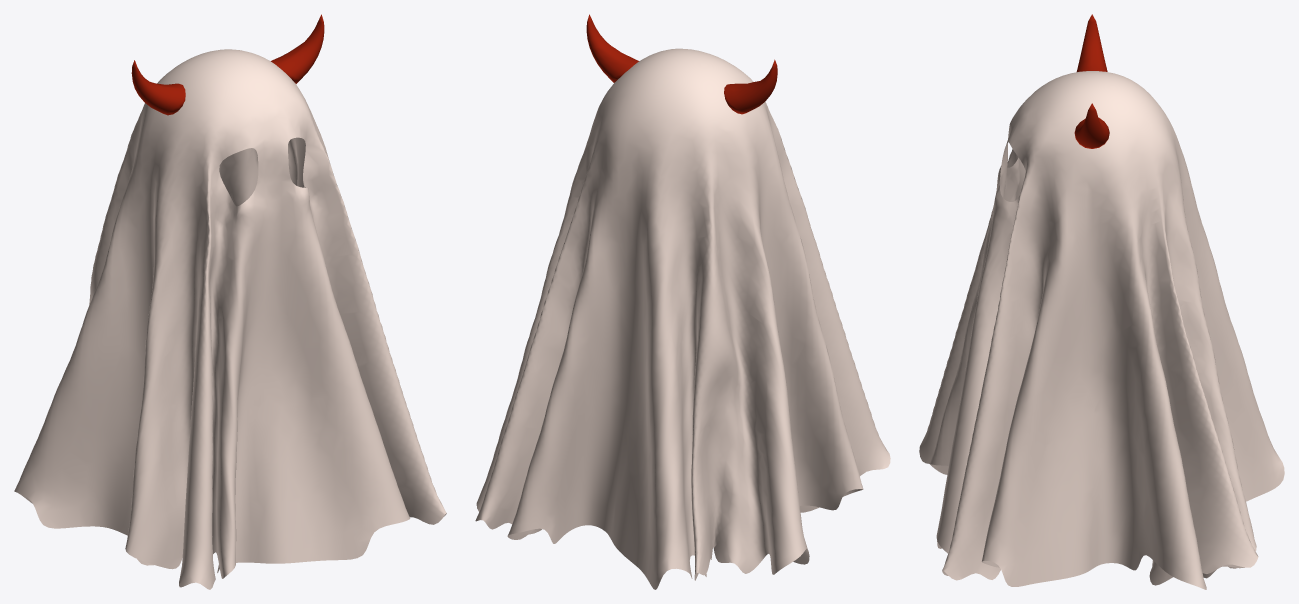
Rendered from GhostDevil.fbx.
3 renders of one model, left to right at view 1: azimuth 30°, elevation 25°; view 2: azimuth 150°, elevation 25°; view 3: azimuth 270°, elevation 25°, orthographic. The views are drawn at different scales.
Parts seen in each view (by area): view 1: Plane.003; view 2: Plane.003; view 3: Plane.003.
Boxes of the visible parts, x1=… form: Plane.003: x1=14, y1=14, x2=446, y2=589; Plane.003: x1=475, y1=14, x2=890, y2=589; Plane.003: x1=919, y1=14, x2=1284, y2=589.
Size of the model in its own units: 99.43 by 145 by 101.
